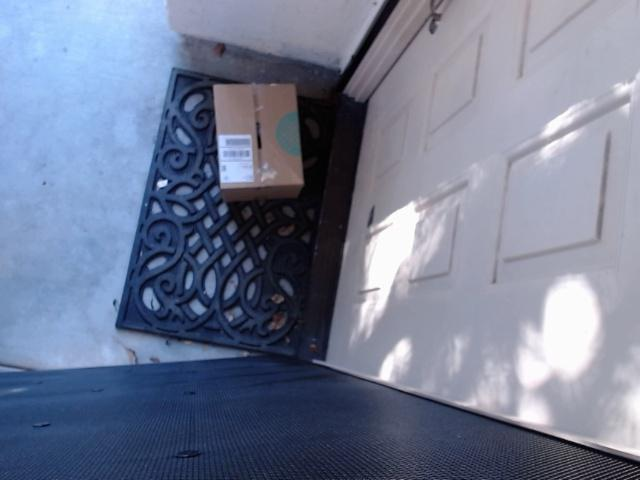box: (212, 84, 303, 202)
